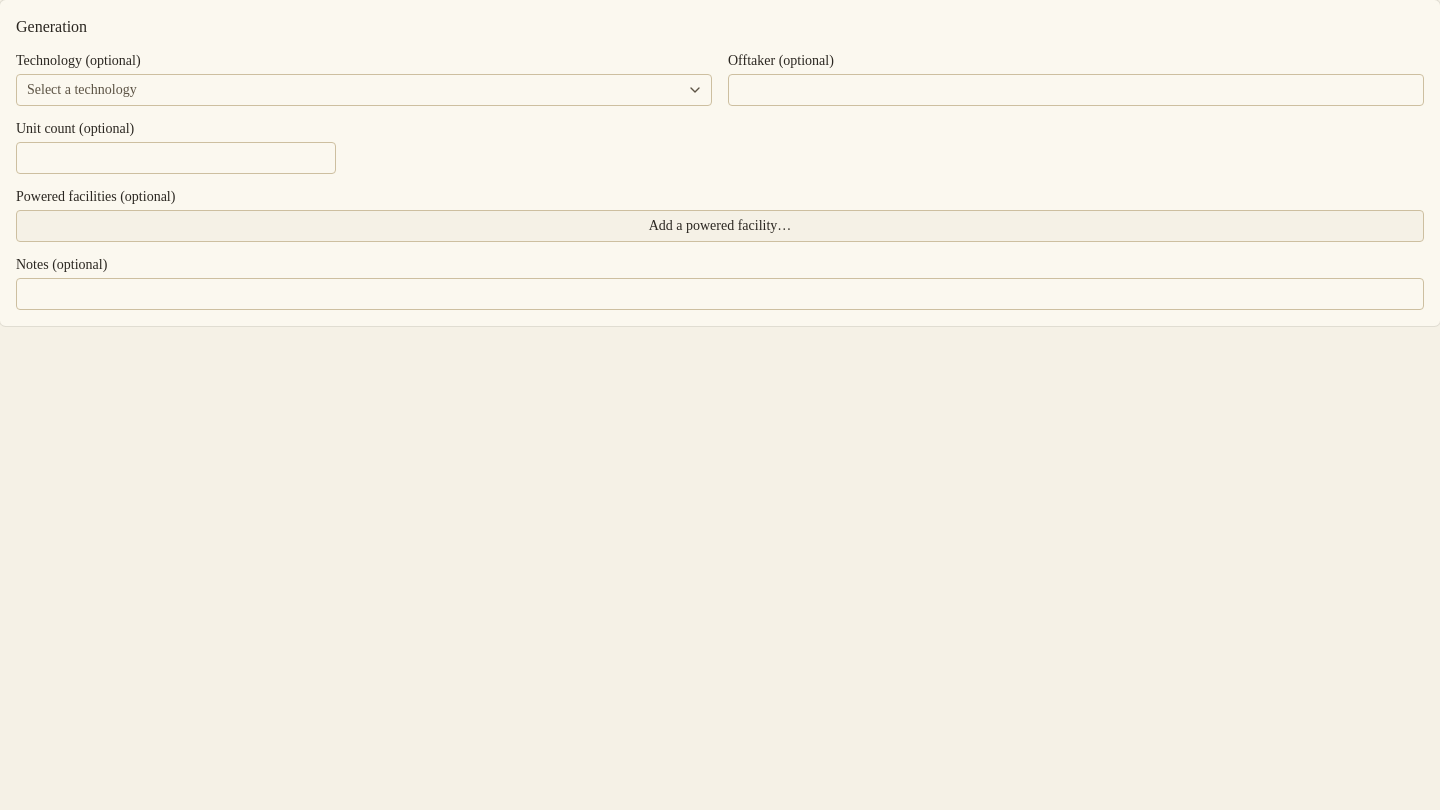
FacilityTypeConditionalFields — power_generation branch › filters the combobox options by typed query
Step 1. Click the button named "powered facilities" → point(720, 226), box [16,210,1424,242]
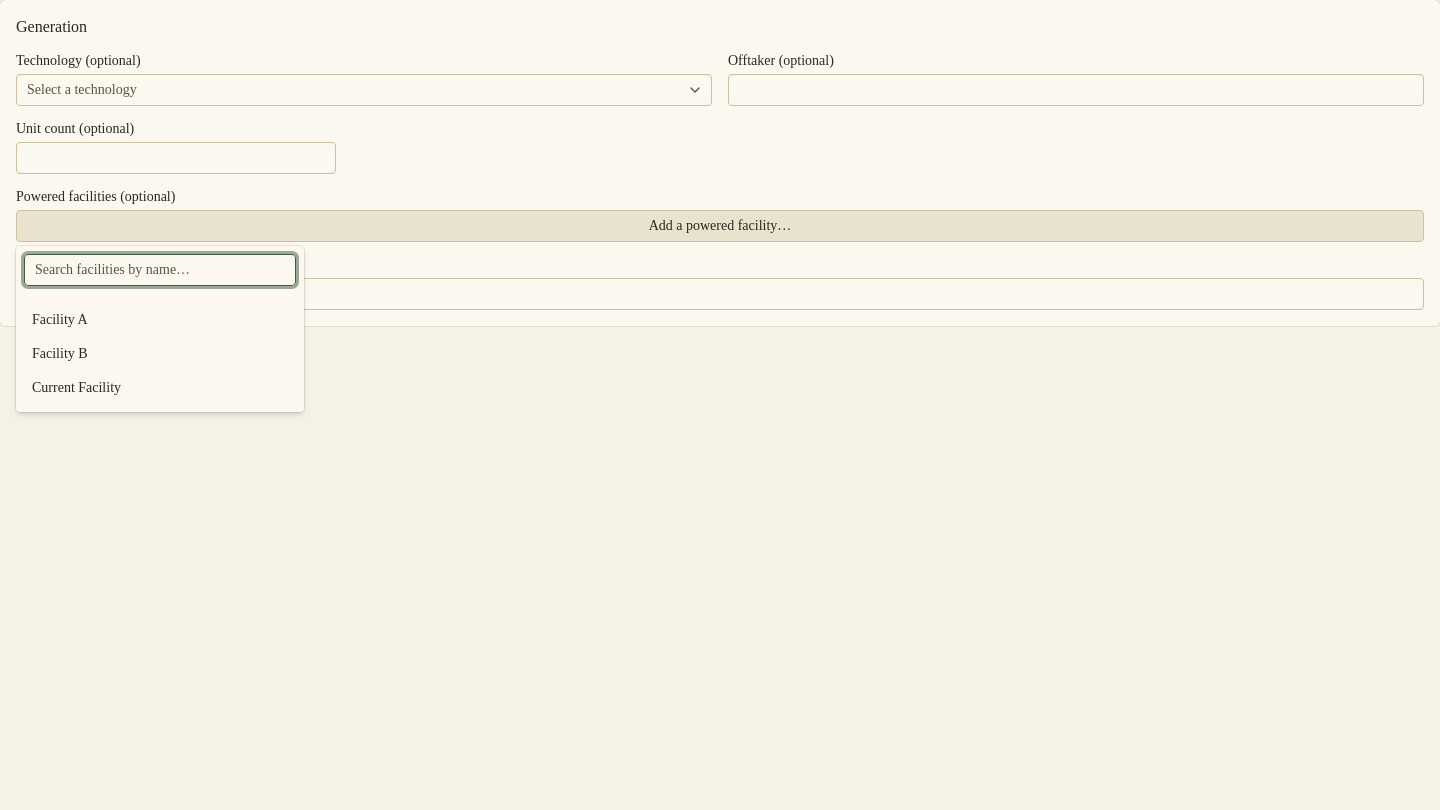
Step 2. Type "Facility B" into the field labelled "Search facilities by name…" → point(160, 270), box [24,254,296,286]
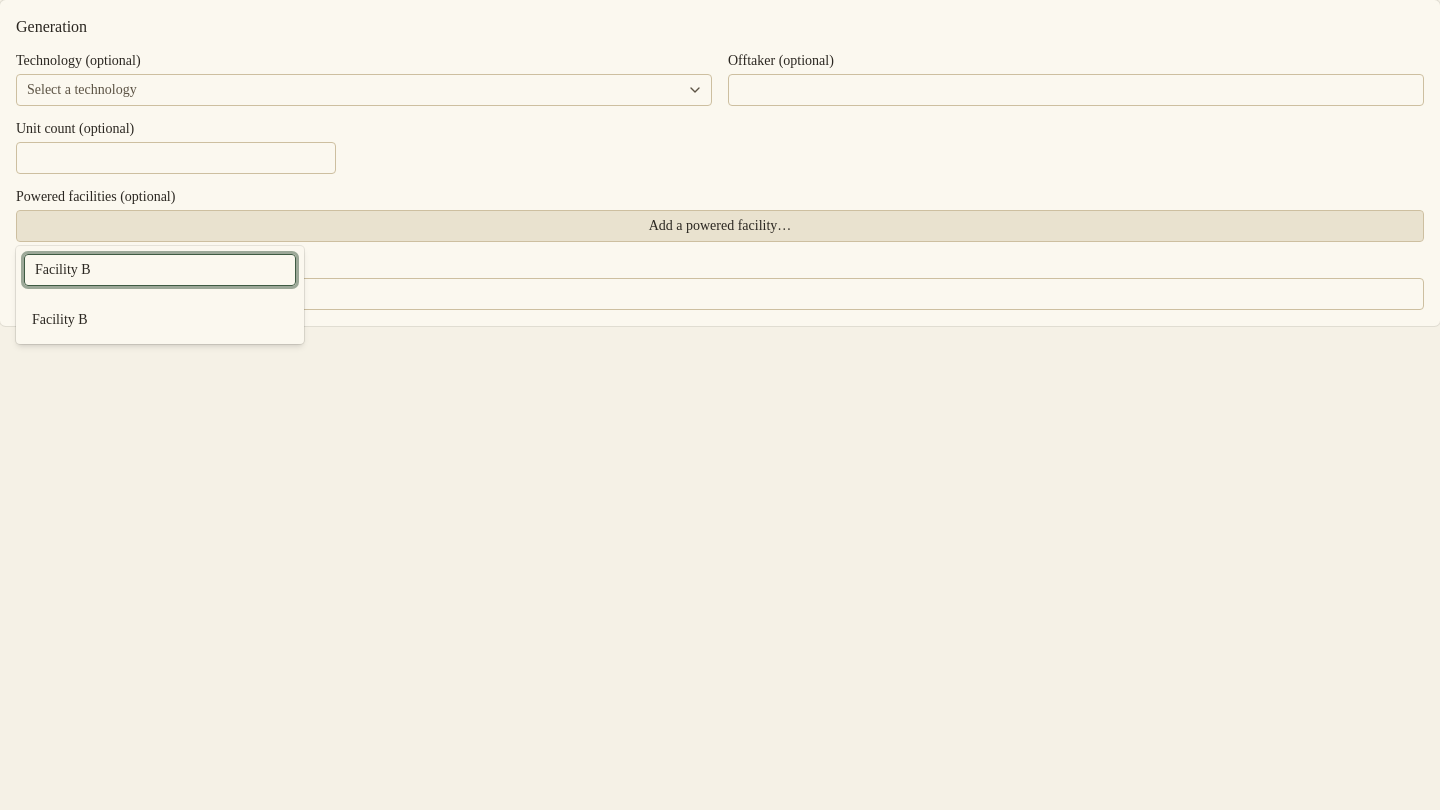
Check: the option "Facility B" is shown, box [24,304,296,336]
Check: the option "Facility A" is gone
